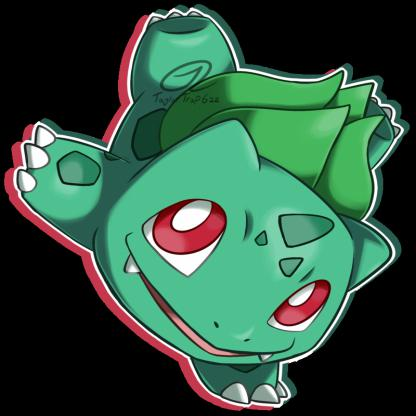Bulbasaur: (10, 6, 416, 416)
